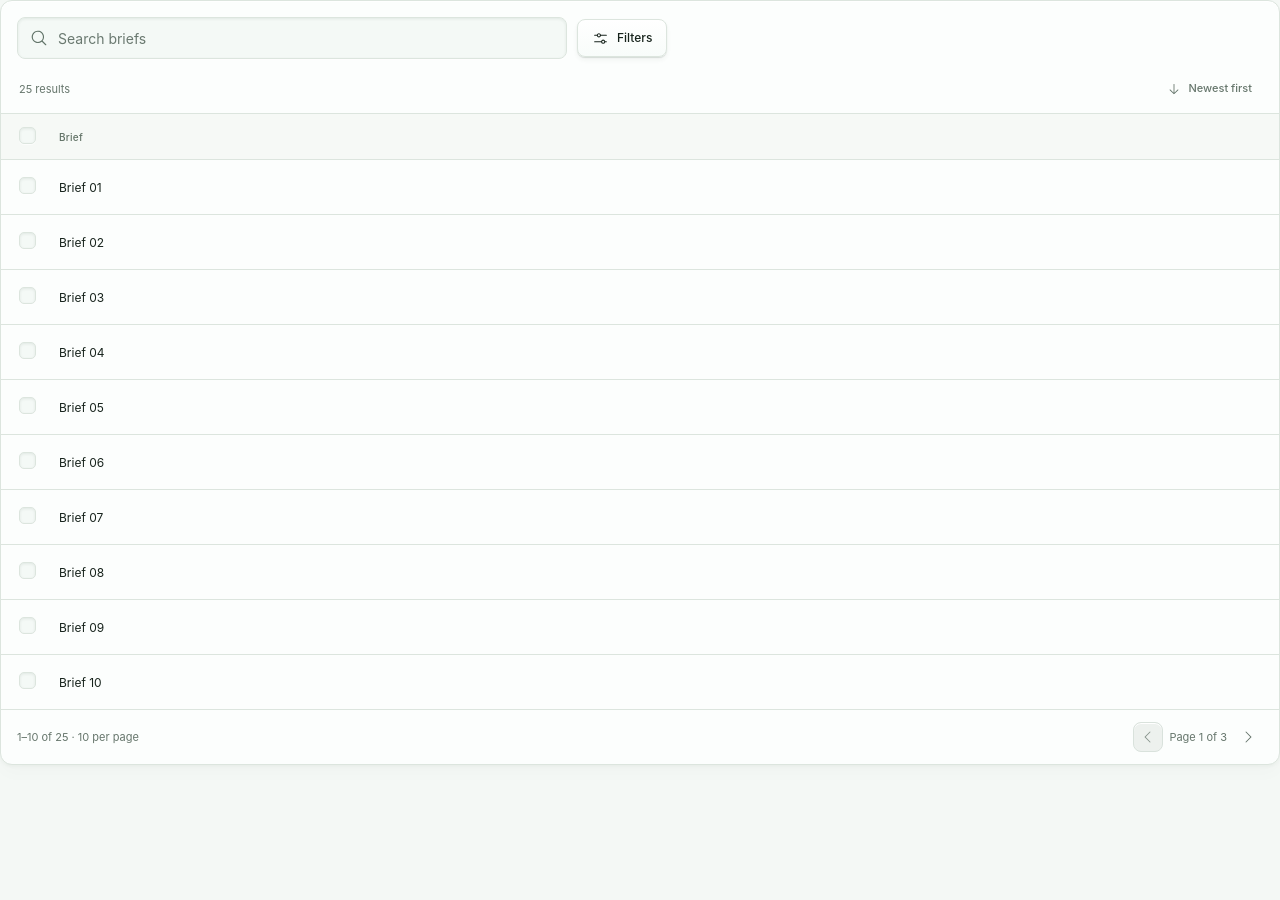
Test: entity selection › resets the results page after search
Click the button named "Next page" at (1248, 737), box [1233,722,1263,752]
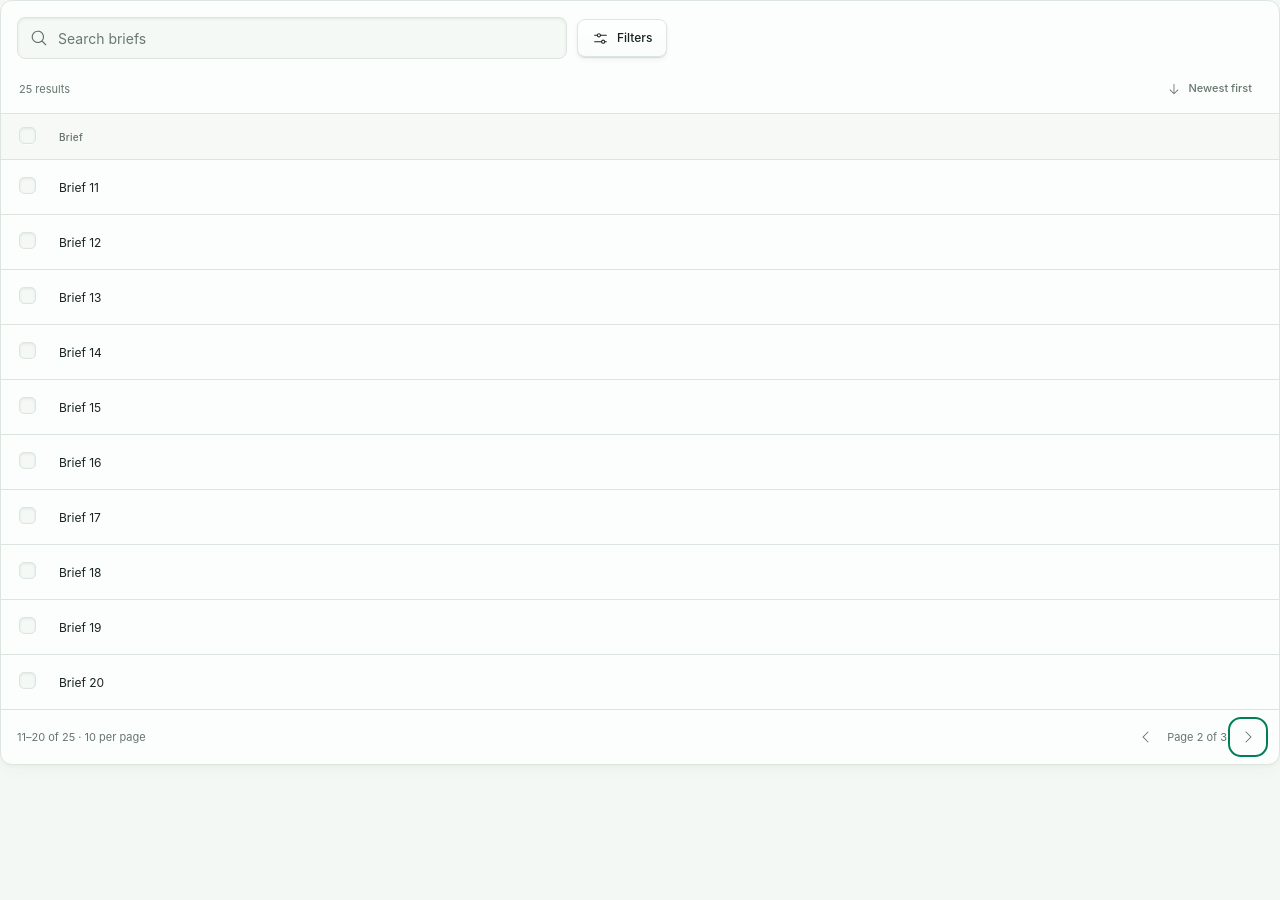
Type "Brief 01" into the field labelled "Search briefs" at (306, 38), box [58,18,554,58]
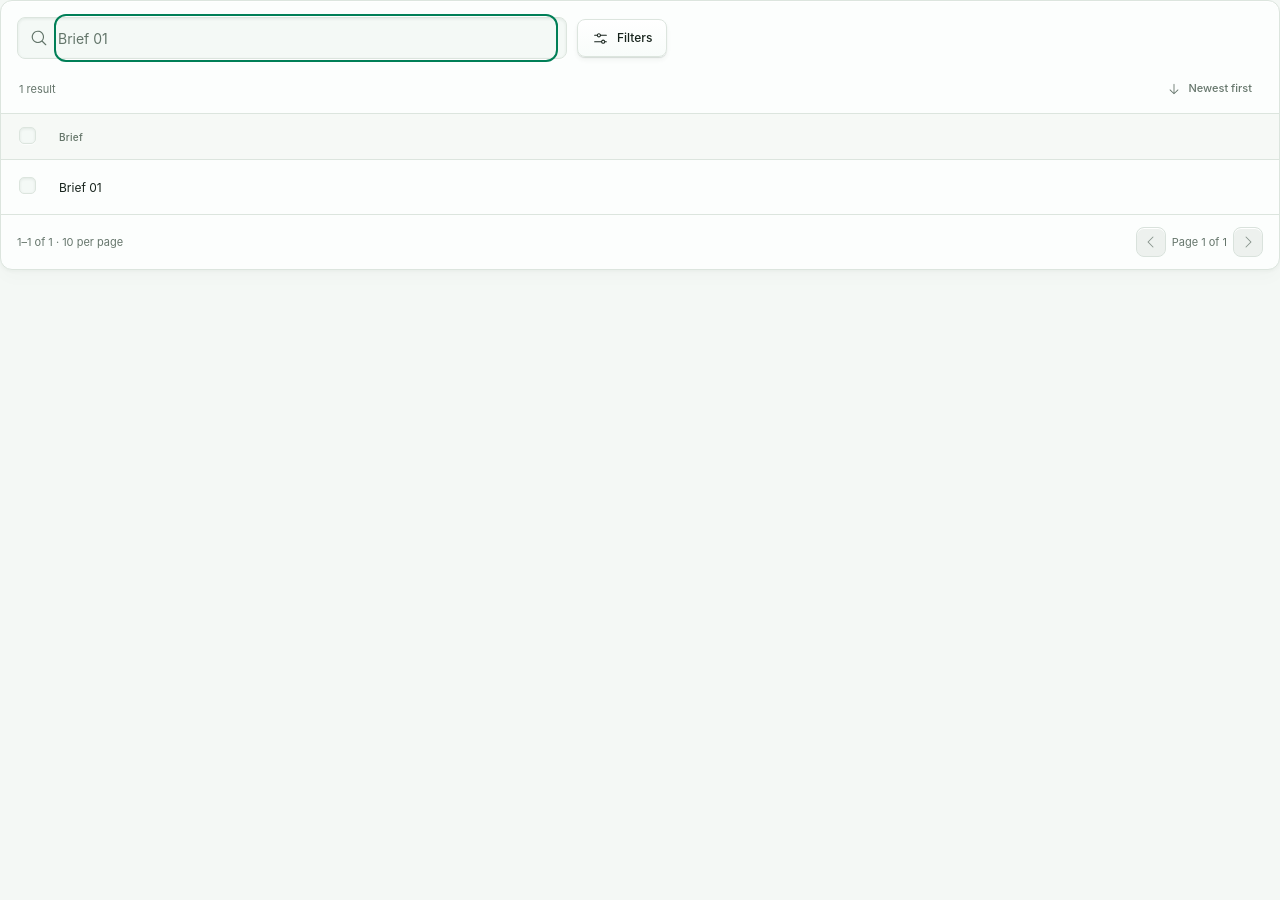
expect the text "Page 1 of 1" is shown: met, box [1172,235,1227,249]
expect the text "Brief 01" is shown: met, box [41,160,1279,214]
